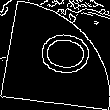O_W: (22, 29, 88, 81)
